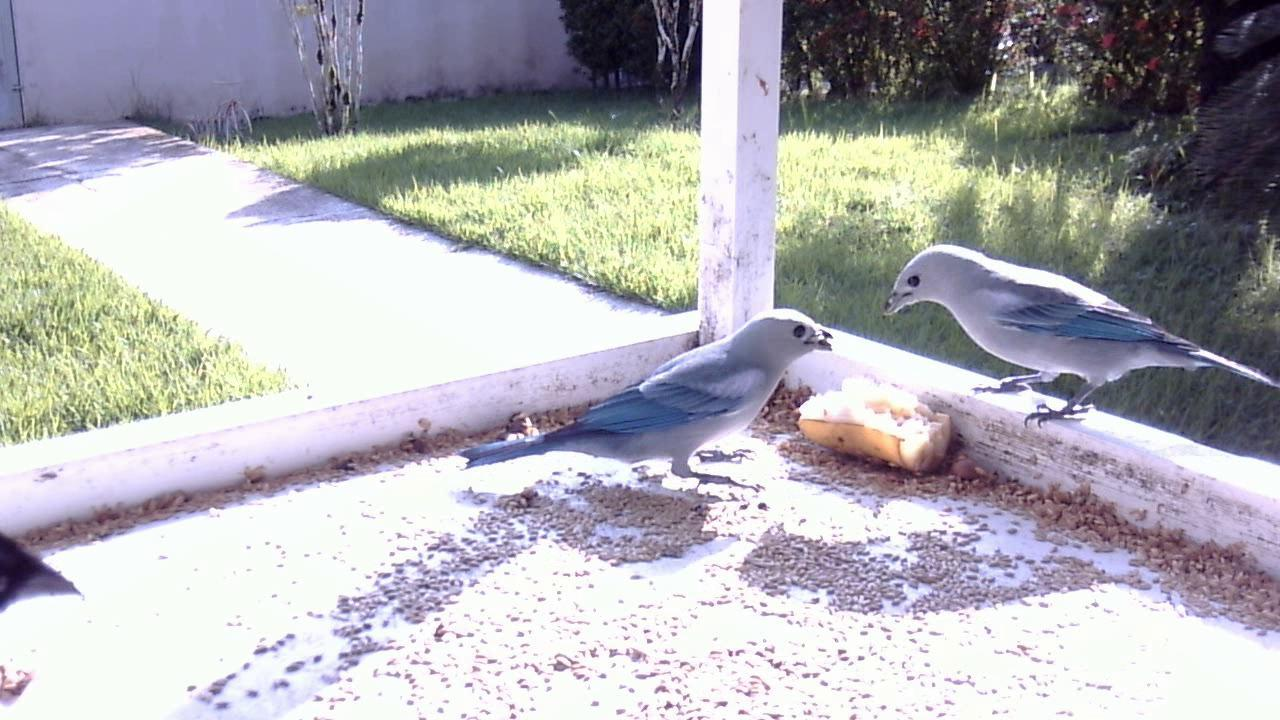sanhaco_da_amazonia: (455, 300, 846, 519), (876, 228, 1267, 444)
